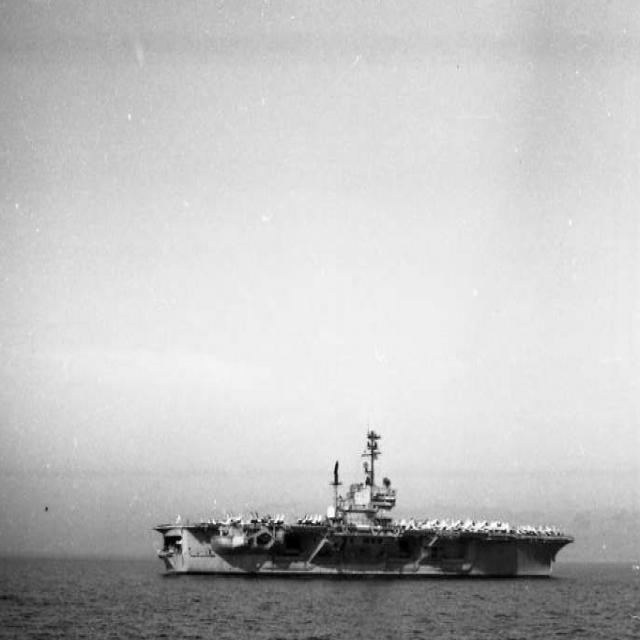Portanaves: (154, 424, 578, 583)
